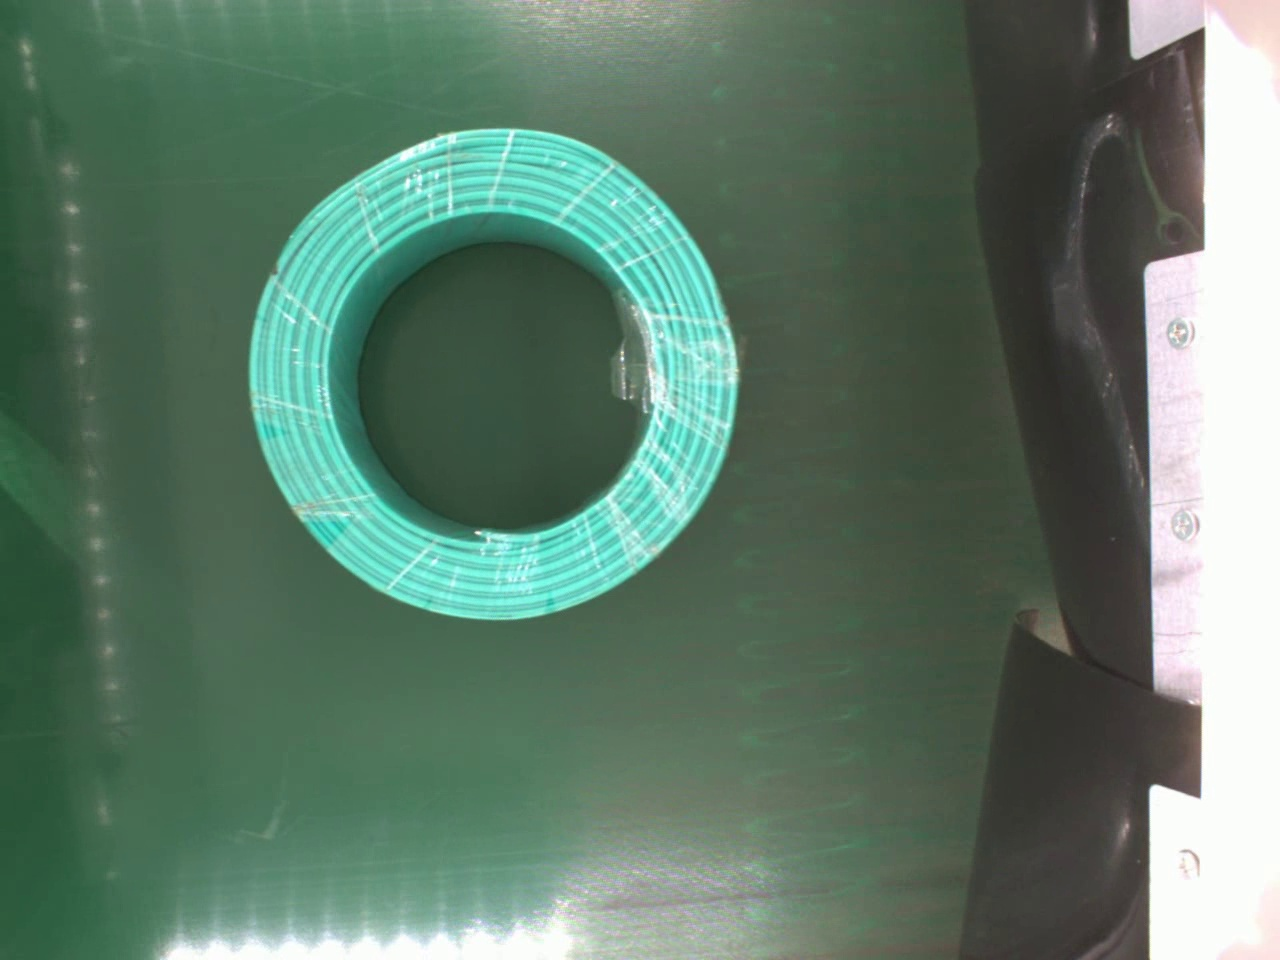green: (243, 127, 745, 623)
